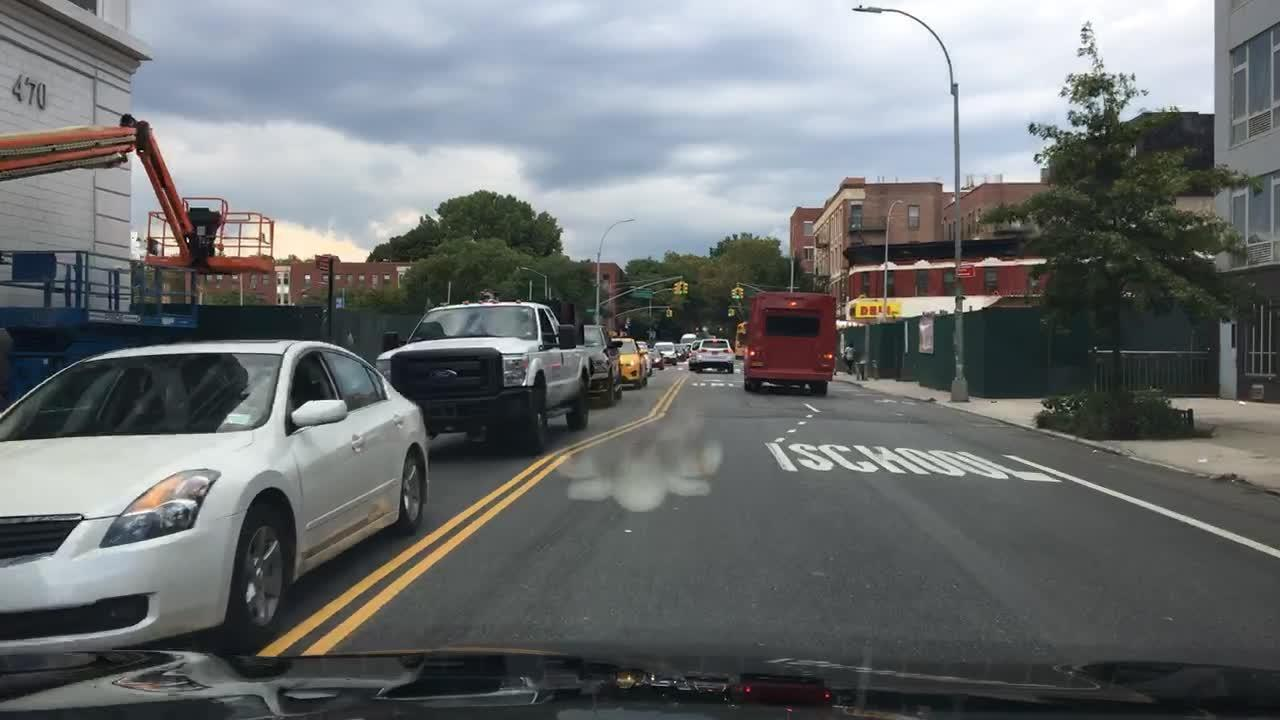ford: (428, 365, 459, 384)
